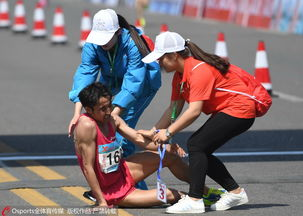fall: (68, 74, 233, 211)
